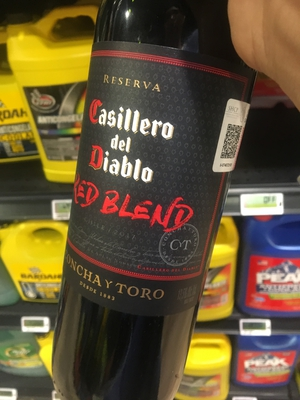casillero del diablo red blend: (48, 12, 242, 382)
